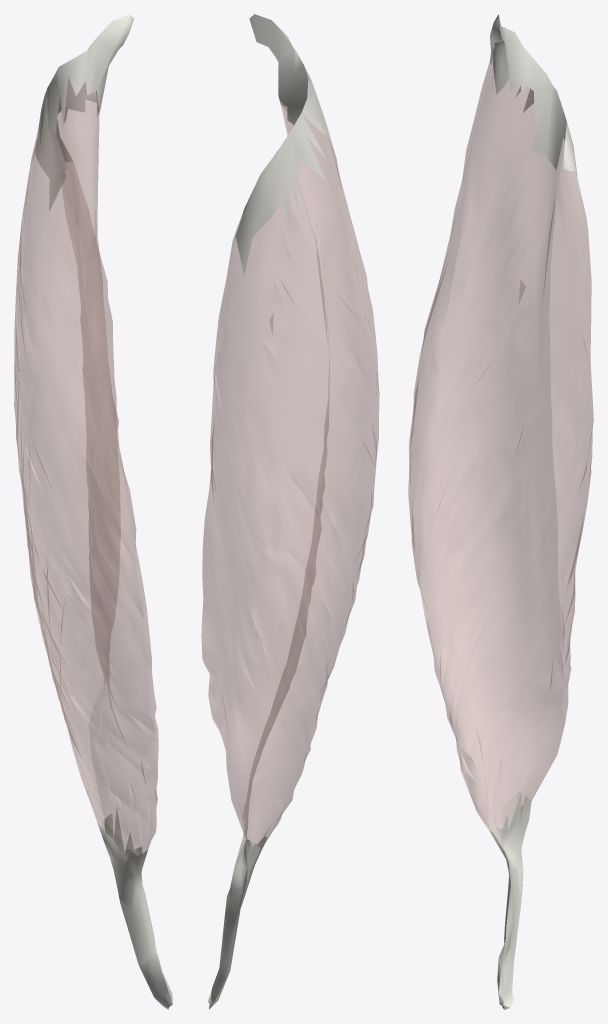
File: vaste-lateral.glb
The picture shows the model from 3 angles, left to right: view 1: azimuth 30°, elevation 25°; view 2: azimuth 150°, elevation 25°; view 3: azimuth 270°, elevation 25°; orthographic projection. The views are drawn at different scales.
Parts seen in each view (by area): view 1: vaste-lateral; view 2: vaste-lateral; view 3: vaste-lateral.
Boxes of the visible parts, x1,y1,x2,y2 form: vaste-lateral: (14,14,172,1009); vaste-lateral: (201,14,379,1009); vaste-lateral: (408,14,593,1009).
Size of the model in its own units: 0.0738 by 0.4573 by 0.0793.
